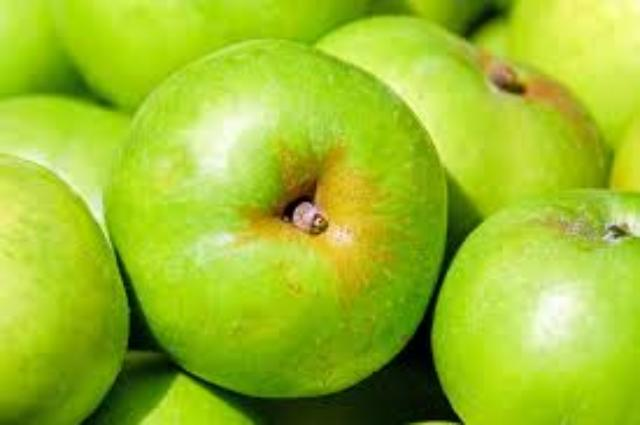green apple: (107, 36, 446, 399), (250, 13, 610, 331), (430, 188, 639, 423), (1, 150, 129, 422)
